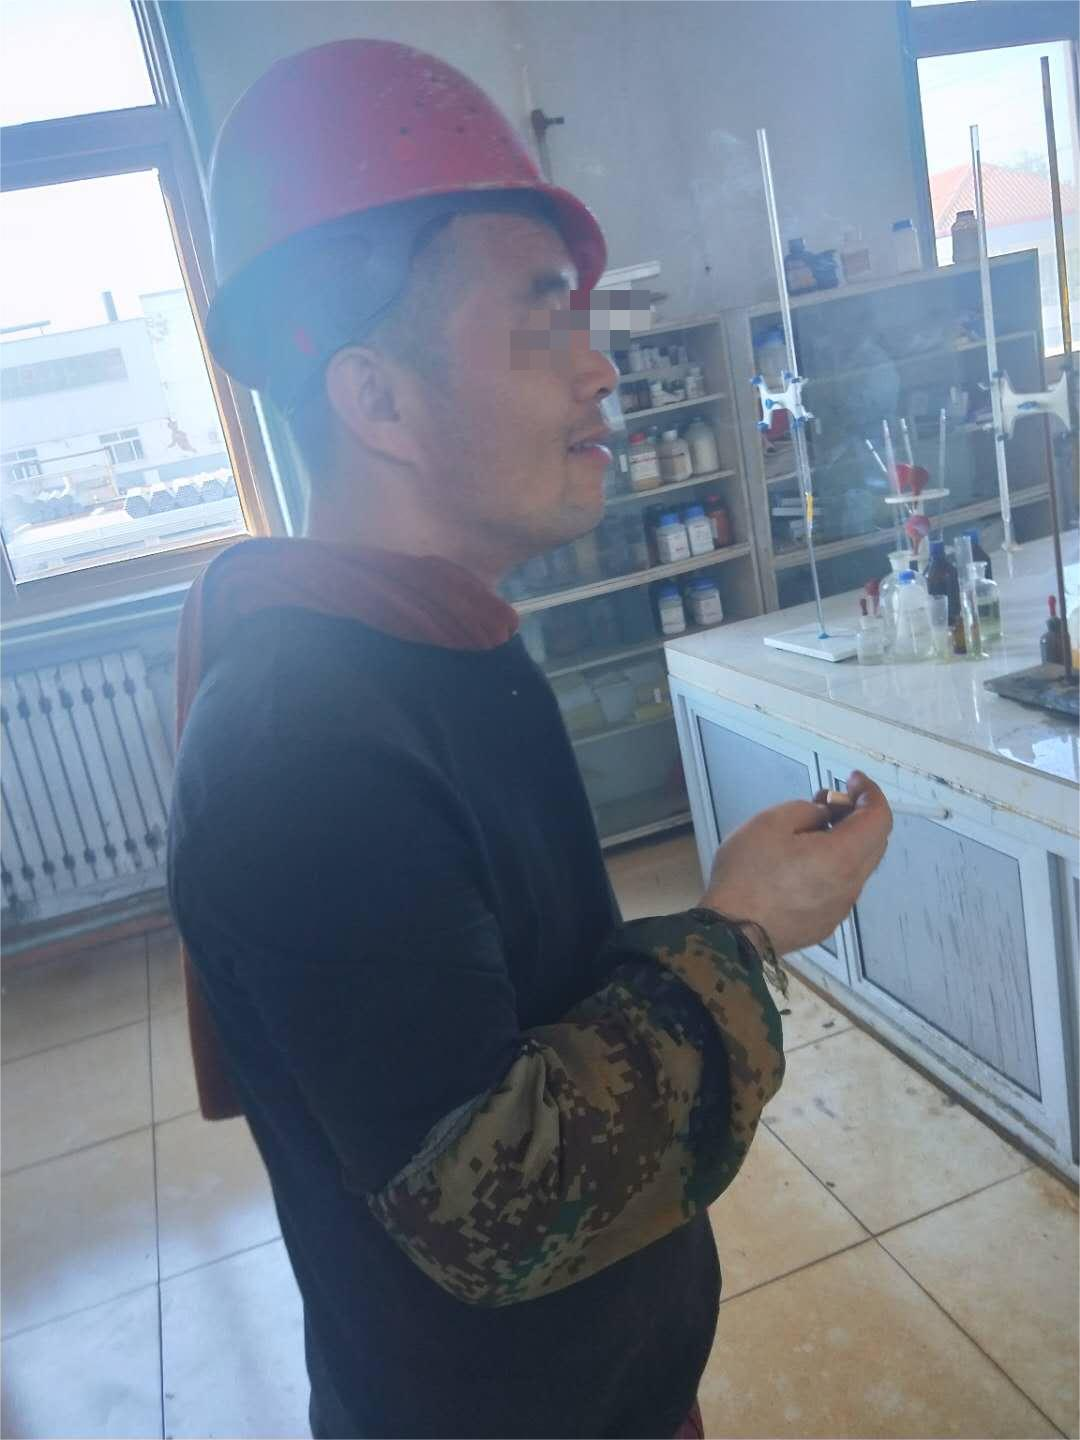smoke: (822, 787, 962, 827)
